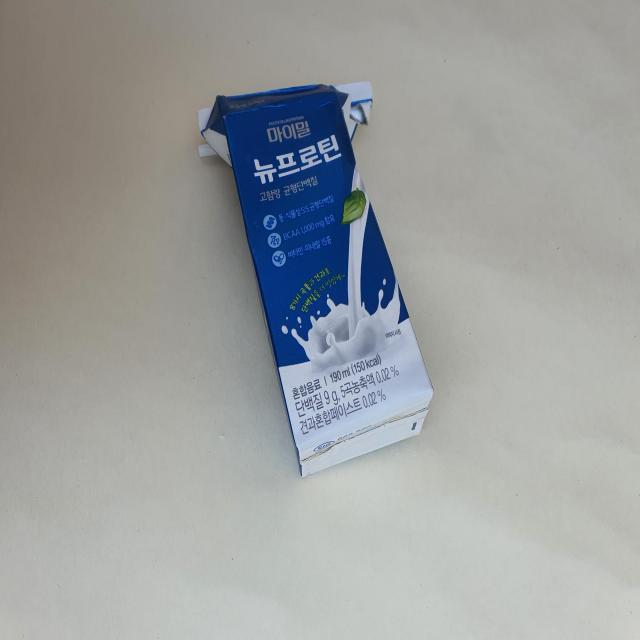paperpack: (198, 83, 433, 476)
